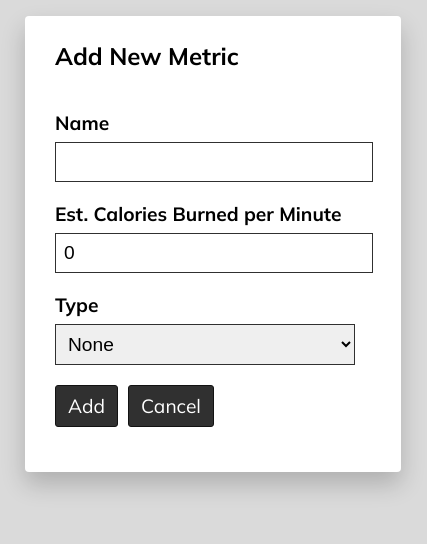
<GearForm /> › it validates the form
Clear the field labelled "Name": x=214, y=162 [55, 142, 373, 182]
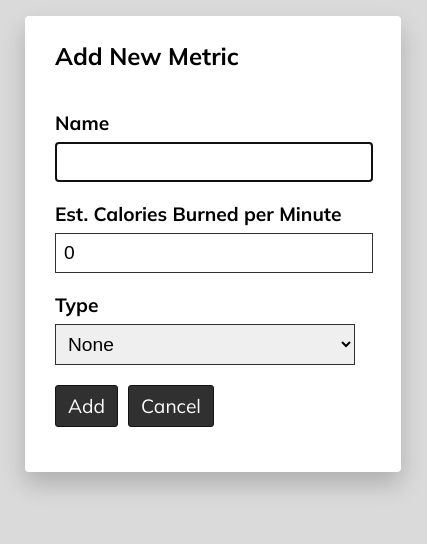
Leave the field labelled "Name", box [55, 142, 373, 182]
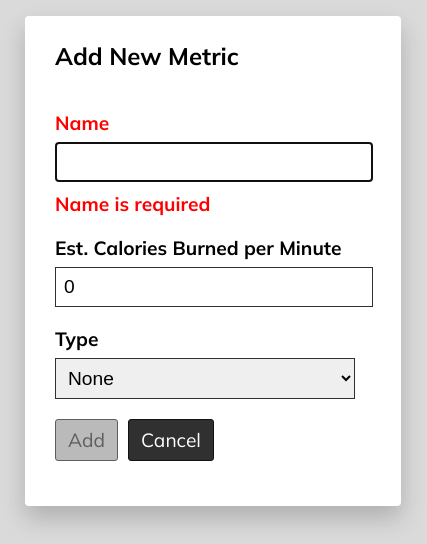
Check: the text "Name is required" is shown, box [55, 192, 210, 216]
Check: the button "Add" is disabled, box [55, 419, 118, 461]
